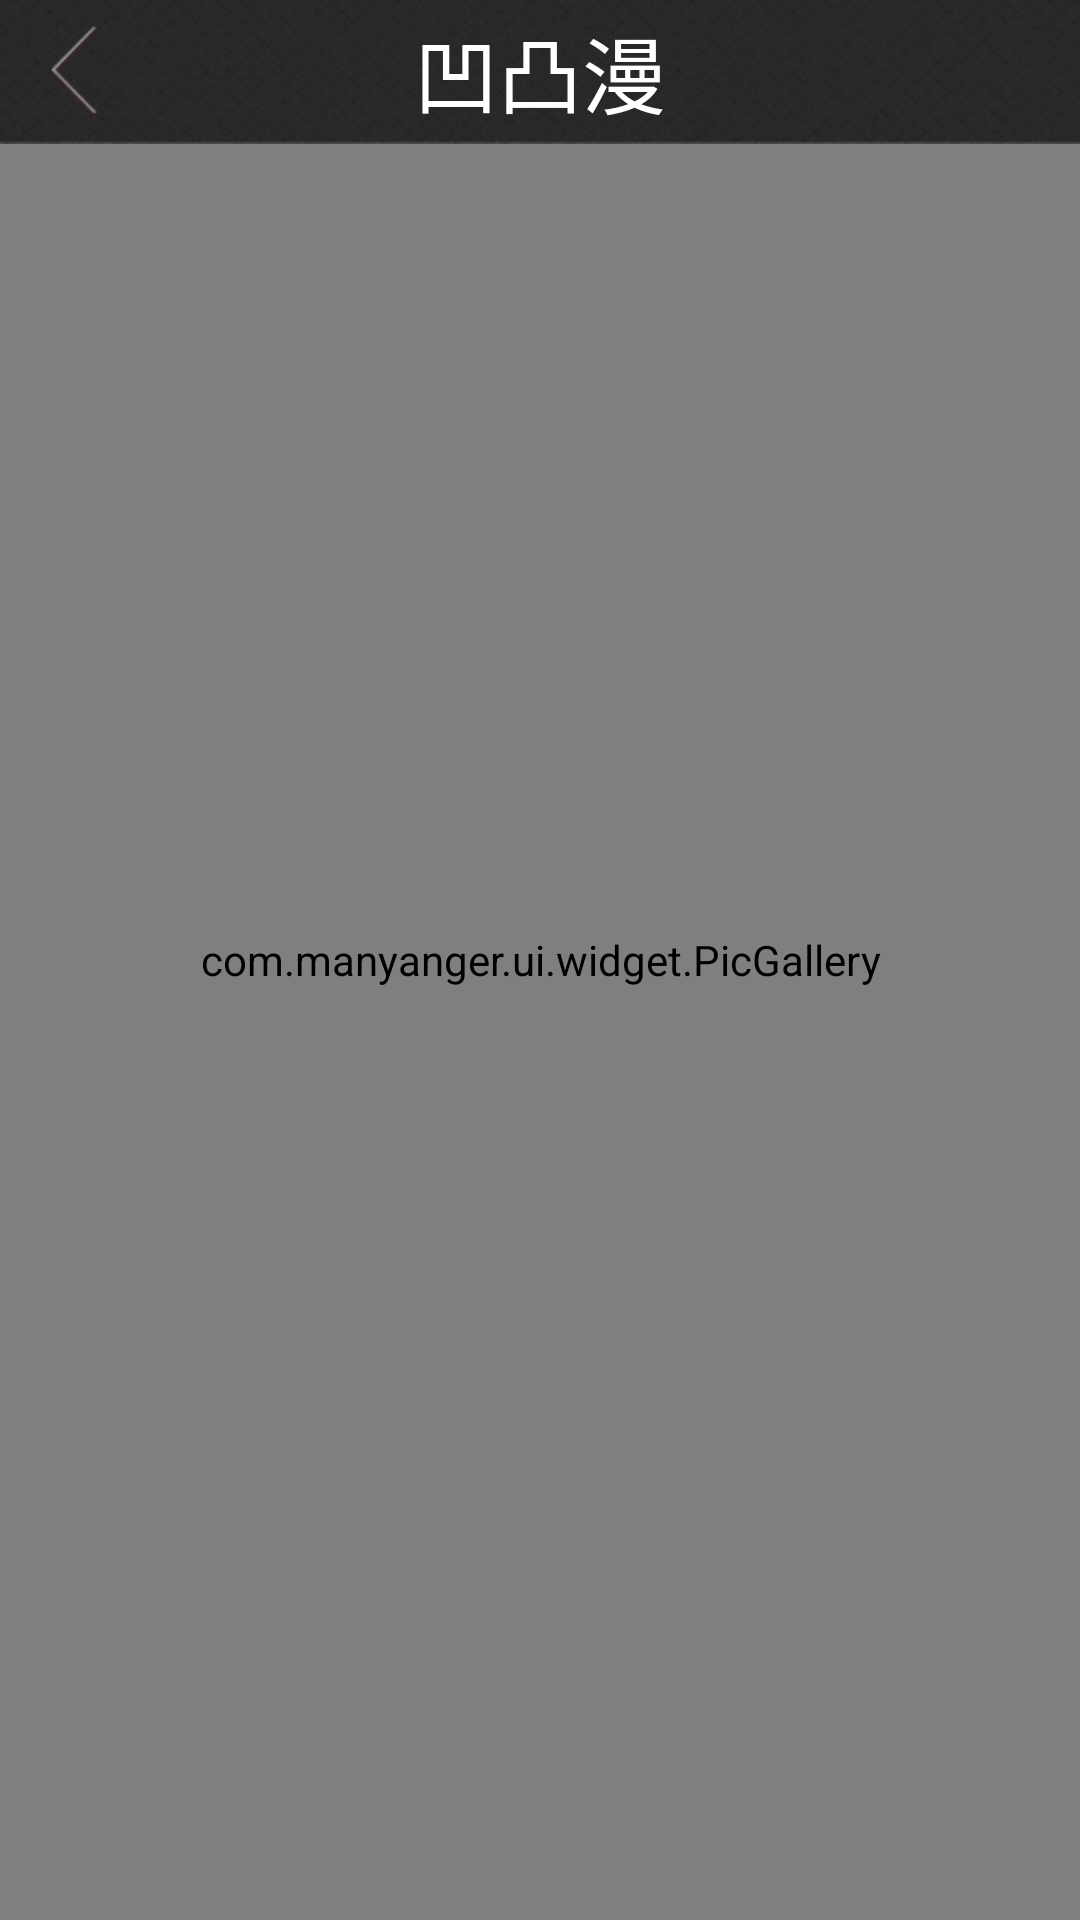

Named icons in this screenshot (1080 × 1920) and their bounding boxes, [x1, y1, x2, y2]:
read back: [51, 27, 96, 114]
